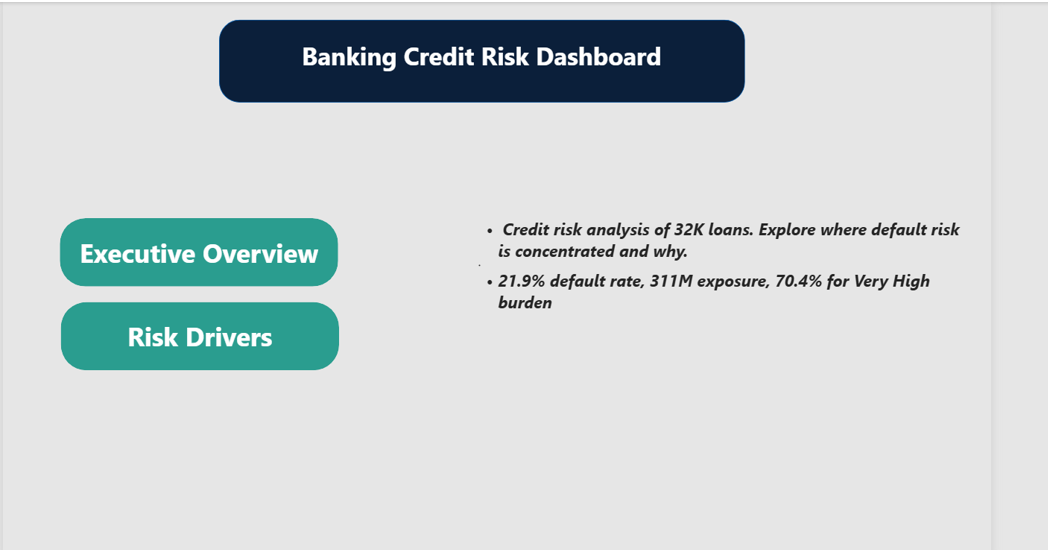

What the dashboard file says about the page in this screenshot:
{"tool":"powerbi","page":{"name":"Home","canvas":[1920,1080],"ordinal":0},"visuals":[{"type":"shape","box":[419.2,33.7,1021.8,160.9],"z":4000},{"type":"textbox","box":[552,71.1,756,88],"z":5000},{"type":"textbox","box":[914.3,418.4,947.2,340.9],"z":5001},{"type":"actionButton","box":[110.4,419.2,540.8,132.9],"z":5002},{"type":"actionButton","box":[112,582.3,540.8,132.9],"z":5003},{"type":"textbox","box":[140.8,438.4,486.1,95.4],"z":5004},{"type":"textbox","box":[142.4,602.7,470.2,88.6],"z":5005}]}

Visuals, with their boxes on the page's 1920x1080 design canvas (x1, y1, x2, y2). These are canvas units, not pixel positions in the 1048x550 screenshot, which may show the page scaled, cropped or inside an application window:
shape: {"x1": 419, "y1": 34, "x2": 1441, "y2": 195}
textbox: {"x1": 552, "y1": 71, "x2": 1308, "y2": 159}
textbox: {"x1": 914, "y1": 418, "x2": 1862, "y2": 759}
actionButton: {"x1": 110, "y1": 419, "x2": 651, "y2": 552}
actionButton: {"x1": 112, "y1": 582, "x2": 653, "y2": 715}
textbox: {"x1": 141, "y1": 438, "x2": 627, "y2": 534}
textbox: {"x1": 142, "y1": 603, "x2": 613, "y2": 691}
